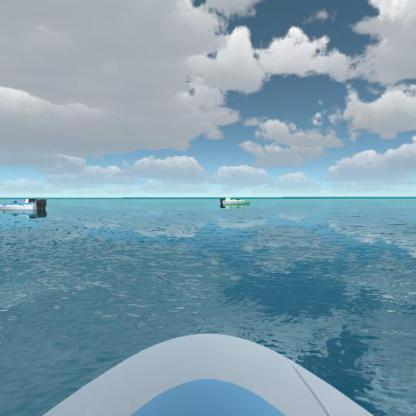usv0: (215, 193, 256, 211)
usv1: (1, 194, 50, 218)
